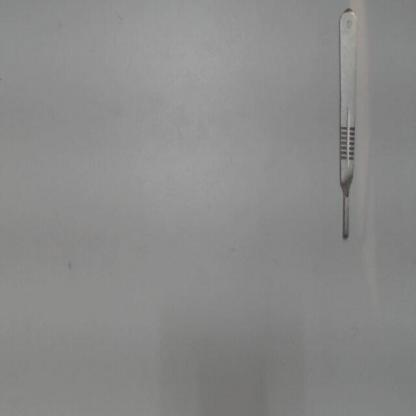No.4 BP Handle: (330, 1, 366, 246)
